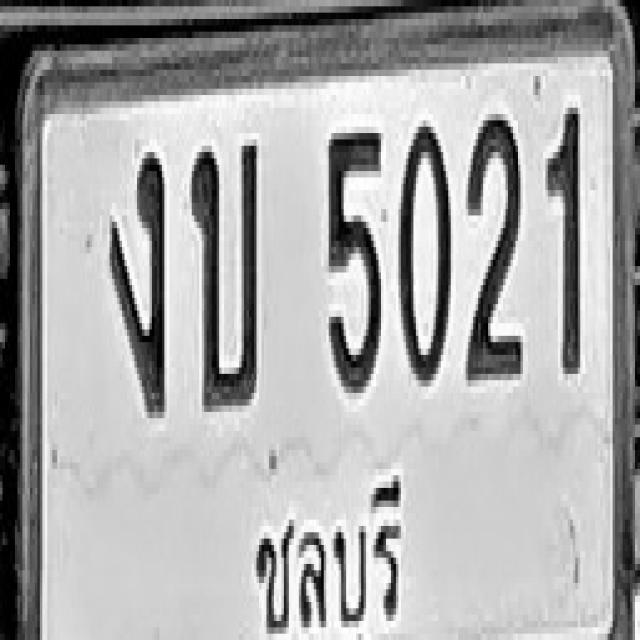0: (397, 124, 450, 384)
1: (546, 101, 580, 374)
16NgorNgu: (110, 149, 164, 415)
2: (466, 111, 520, 377)
35BorBaiMai: (189, 139, 259, 412)
5: (326, 127, 381, 393)
Chonburi: (245, 484, 410, 640)
